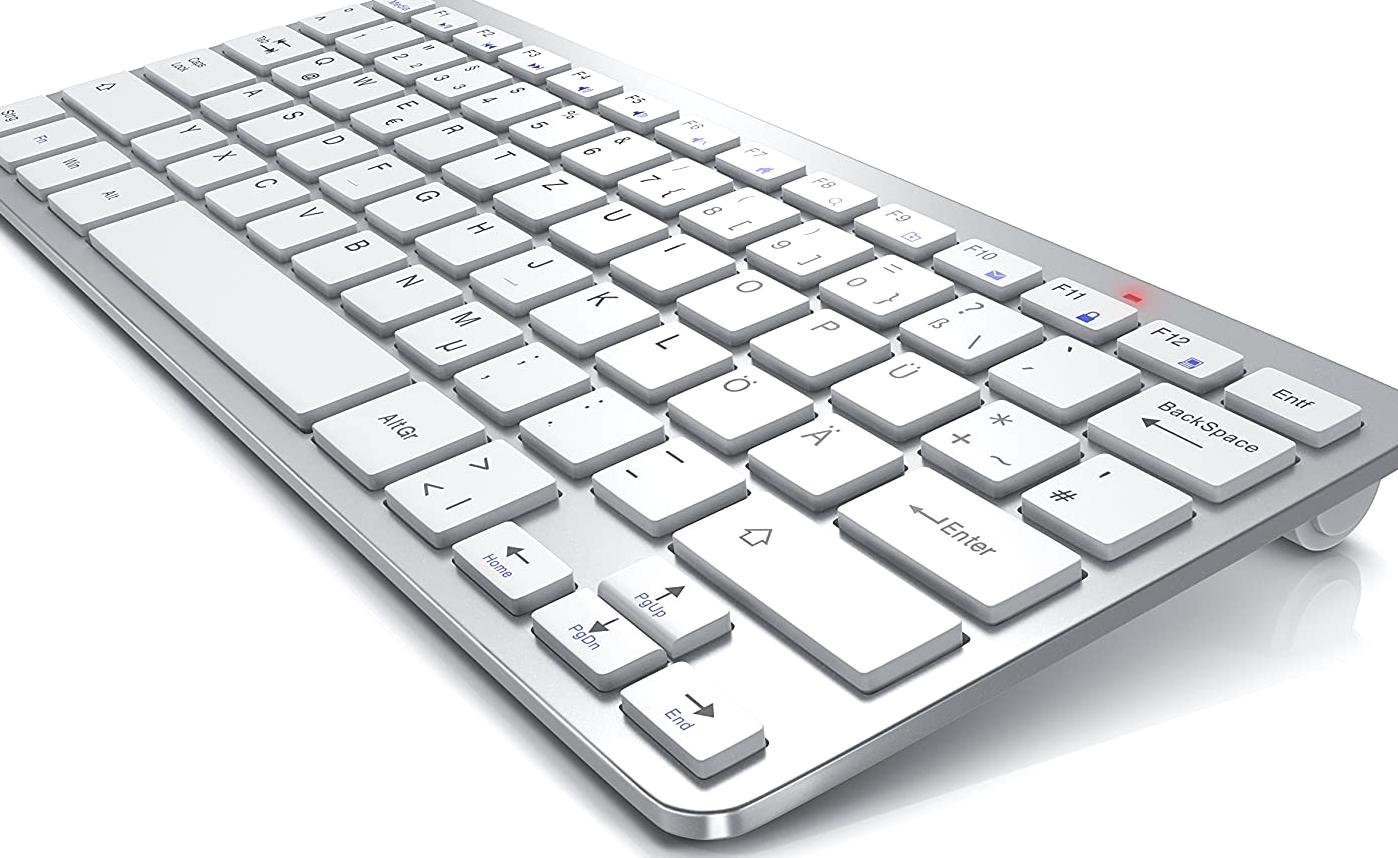0: (817, 254, 958, 315)
1: (337, 17, 423, 55)
2: (373, 38, 463, 75)
3: (416, 59, 513, 99)
4: (460, 80, 562, 123)
5: (508, 103, 612, 147)
6: (561, 130, 673, 175)
7: (616, 157, 736, 207)
8: (676, 186, 804, 241)
9: (744, 218, 878, 276)
a: (201, 80, 292, 120)
accent: (986, 334, 1146, 409)
ae: (745, 413, 909, 497)
alt-left: (47, 167, 173, 225)
altgr-right: (310, 379, 489, 483)
b: (290, 229, 405, 284)
c: (205, 171, 313, 218)
caret: (298, 3, 384, 35)
comma: (450, 341, 592, 414)
d: (279, 128, 376, 171)
del: (1085, 382, 1301, 502)
e: (350, 93, 449, 134)
enter: (833, 464, 1090, 622)
f: (319, 153, 420, 199)
g: (365, 182, 476, 231)
h: (414, 211, 533, 267)
hash: (1019, 454, 1191, 546)
i: (609, 233, 738, 292)
j: (469, 246, 593, 304)
k: (528, 283, 664, 346)
keyboard: (1, 1, 1398, 845)
l: (595, 319, 734, 391)
less: (381, 438, 560, 535)
m: (393, 301, 525, 369)
minus: (594, 437, 745, 520)
n: (342, 264, 463, 324)
o: (675, 269, 813, 333)
oe: (665, 364, 817, 441)
p: (747, 308, 894, 377)
plus: (916, 399, 1084, 486)
point: (520, 388, 662, 463)
q: (272, 51, 362, 88)
r: (396, 116, 498, 161)
s: (238, 103, 335, 144)
shift-left: (60, 70, 191, 136)
shift-lock: (142, 46, 256, 97)
shift-right: (672, 492, 962, 674)
space: (89, 200, 412, 415)
ss: (898, 294, 1048, 361)
strg-left: (1, 94, 65, 140)
t: (440, 142, 551, 191)
tab: (222, 25, 325, 65)
u: (548, 201, 670, 254)
ue: (827, 350, 982, 429)
v: (246, 198, 361, 251)
w: (310, 69, 406, 110)
x: (167, 142, 268, 188)
y: (132, 116, 229, 161)
z: (492, 168, 608, 221)
